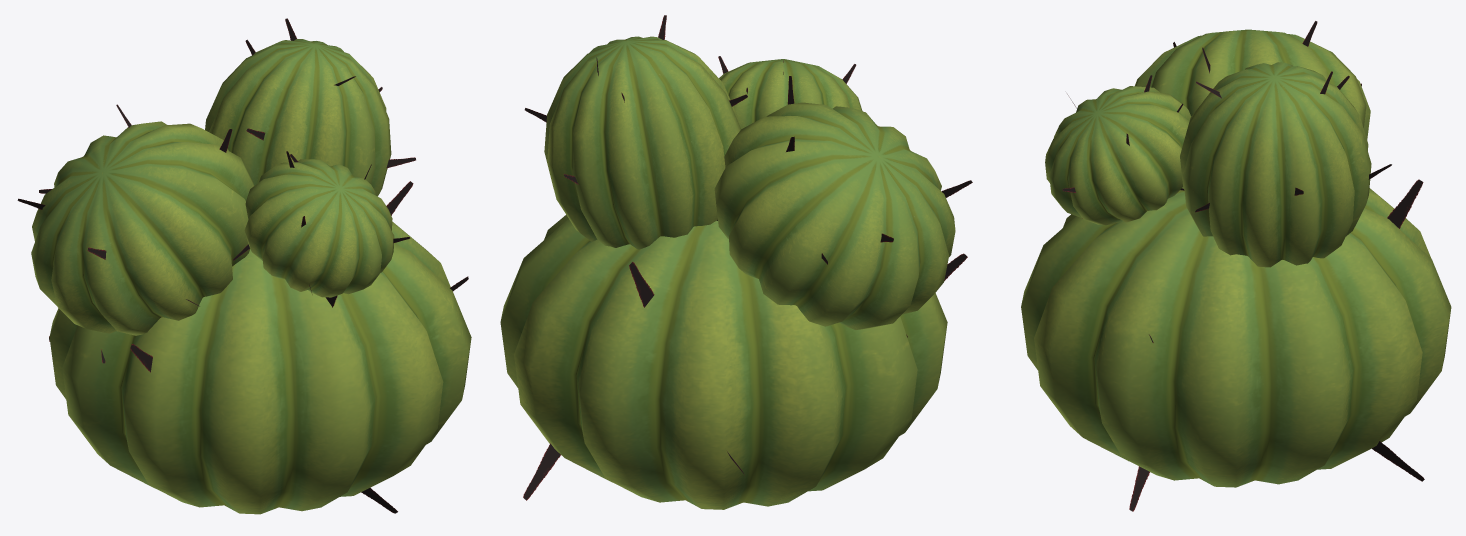
The model's file is acactus2.fbx.
3 renders of one model, left to right at view 1: azimuth 30°, elevation 25°; view 2: azimuth 150°, elevation 25°; view 3: azimuth 270°, elevation 25°, orthographic. The views are drawn at different scales.
Visible parts, largest first — view 1: 2, 2ci; view 2: 2, 2ci; view 3: 2, 2ci.
Part boxes in pixels (x1,y1,x2,y2): 2: (31,39,471,514); 2ci: (17,18,468,513); 2: (500,36,955,509); 2ci: (523,15,972,500); 2: (1021,29,1451,487); 2ci: (1062,21,1424,511).
Bounding box in the file's own units: 221 × 205 × 239.
